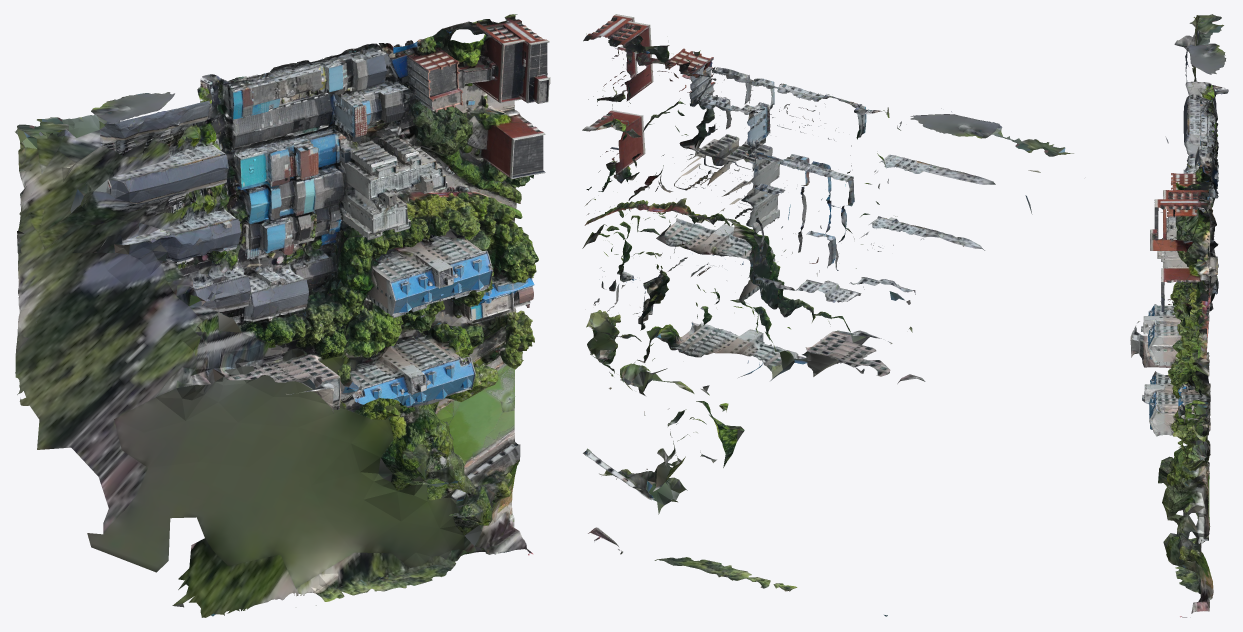
Rendered from Tile_+001_+001.glb.
The picture shows the model from 3 angles, left to right: view 1: azimuth 30°, elevation 25°; view 2: azimuth 150°, elevation 25°; view 3: azimuth 270°, elevation 25°; orthographic projection. The views are drawn at different scales.
Visible parts, largest first — view 1: Node; view 2: Node; view 3: Node.
Part boxes in pixels (<box>): Node: <box>15,14,550,617</box>; Node: <box>582,14,1073,616</box>; Node: <box>1130,14,1228,617</box>.
Bounding box in the file's own units: 200 × 200 × 43.05.
Materials: 1 (1 with a texture image).
